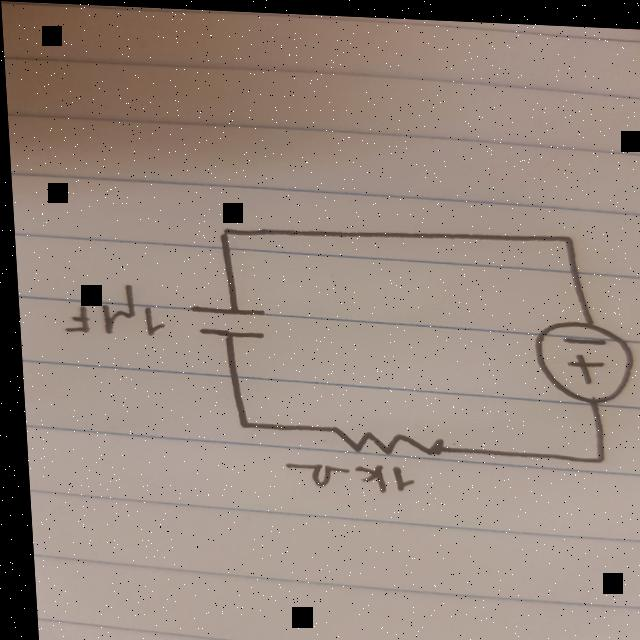capacitor: (183, 300, 267, 341)
junction: (551, 226, 576, 243), (211, 220, 232, 240), (581, 447, 606, 461), (228, 414, 251, 429)
resistor: (320, 418, 446, 457)
source: (524, 309, 634, 397)
text: (54, 281, 165, 340), (276, 456, 410, 491)
